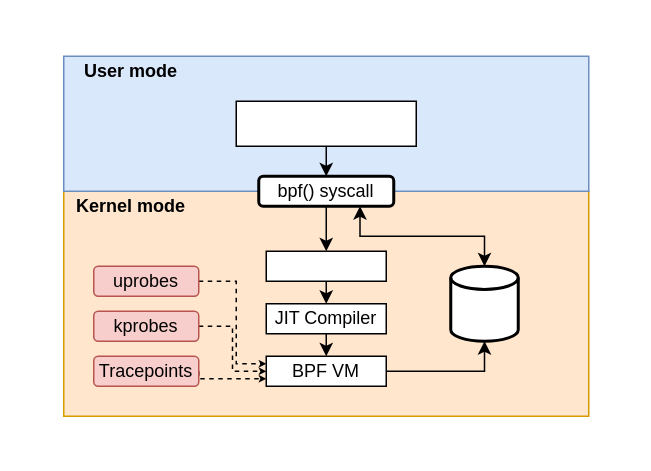
The diagram is 651 pixels wide and 471 high, and some of its shapes have lost their labels. The centre of each missing label's shape, as x and y in pixels:
BPF Maps: (483,303)
Userspace BPF tool: (325,123)
Verifier: (325,265)
